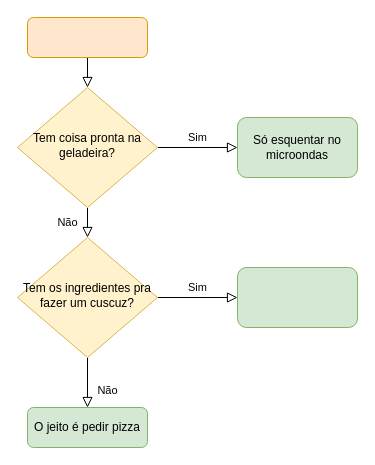
Some shapes in this 375 by 465 pixel diagram are drawn without their labels. The shapes that lost their labels are listed below. From the top down, each one's centre as x and y in pixels, then its label:
At (x=87, y=37): "Você está com fome".
At (x=297, y=297): "Vamos fazer um cuscuz".
